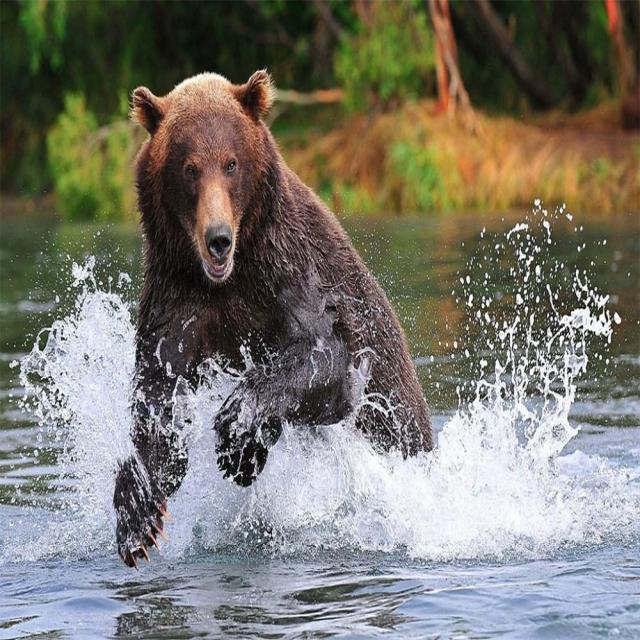Bear: (112, 70, 436, 568)
